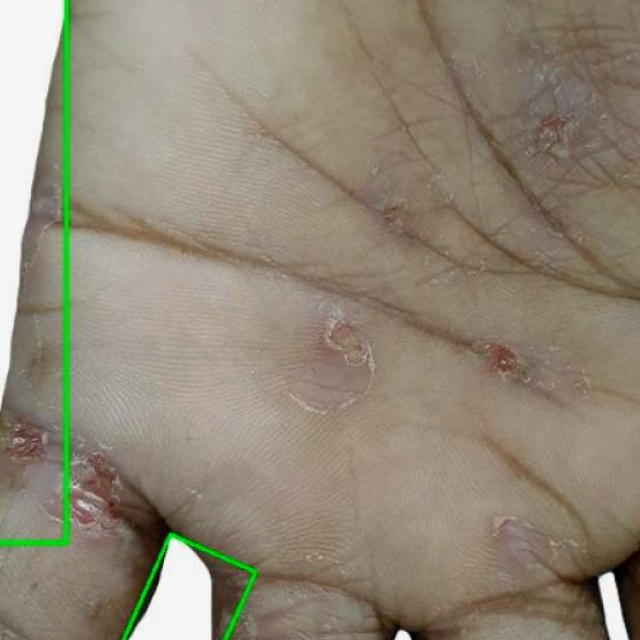Scabies: (124, 534, 256, 639)
